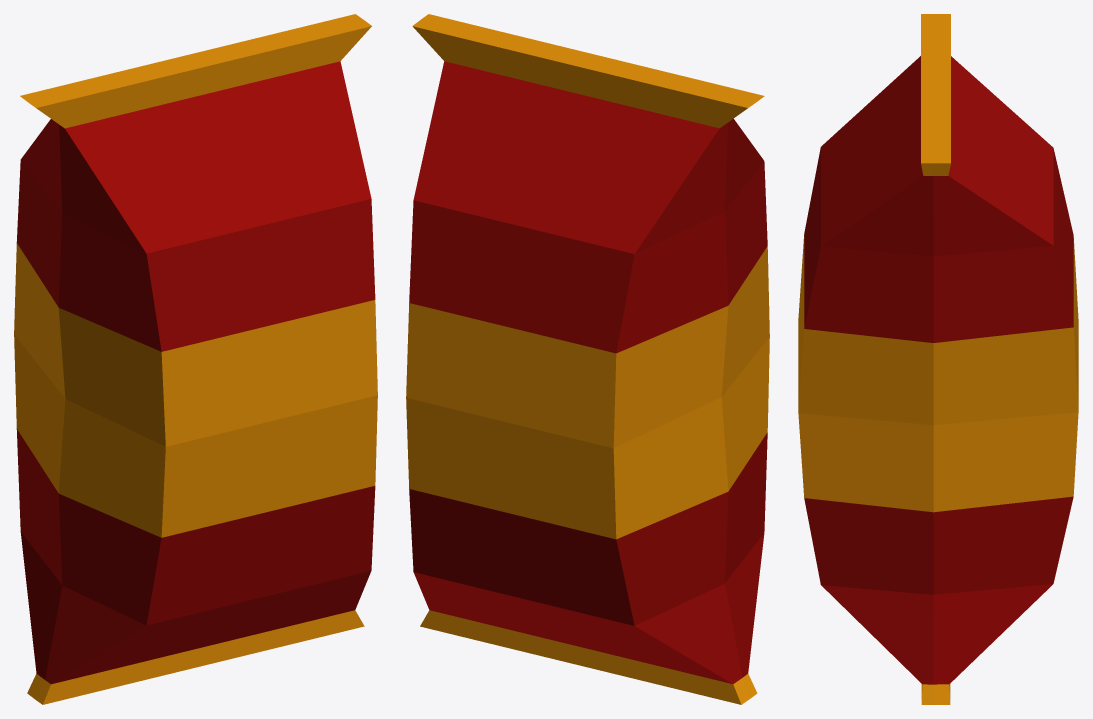
The model's file is leche.fbx.
3 renders of one model, left to right at view 1: azimuth 30°, elevation 25°; view 2: azimuth 150°, elevation 25°; view 3: azimuth 270°, elevation 25°, orthographic. The views are drawn at different scales.
Visible parts, largest first — view 1: Cube; view 2: Cube; view 3: Cube.
Boxes of the visible parts, bbox=[...] form: Cube: bbox=[14, 14, 377, 704]; Cube: bbox=[406, 14, 769, 704]; Cube: bbox=[798, 14, 1078, 704].
Size of the model in its own units: 182 by 309 by 144.
